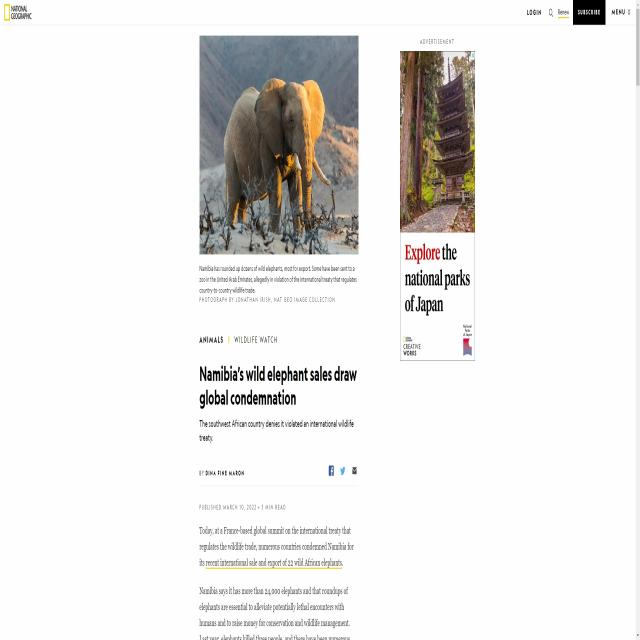menu-bar: (524, 1, 632, 23)
